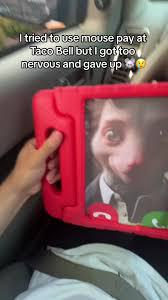mouse-pay: (83, 97, 166, 229)
